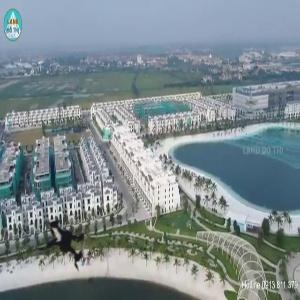drone: (16, 187, 124, 295)
